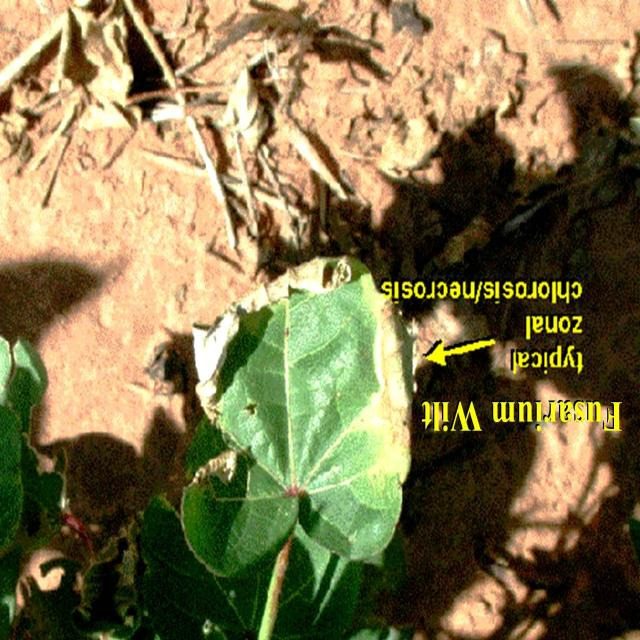Fusarium Wilt: (204, 257, 430, 512)
